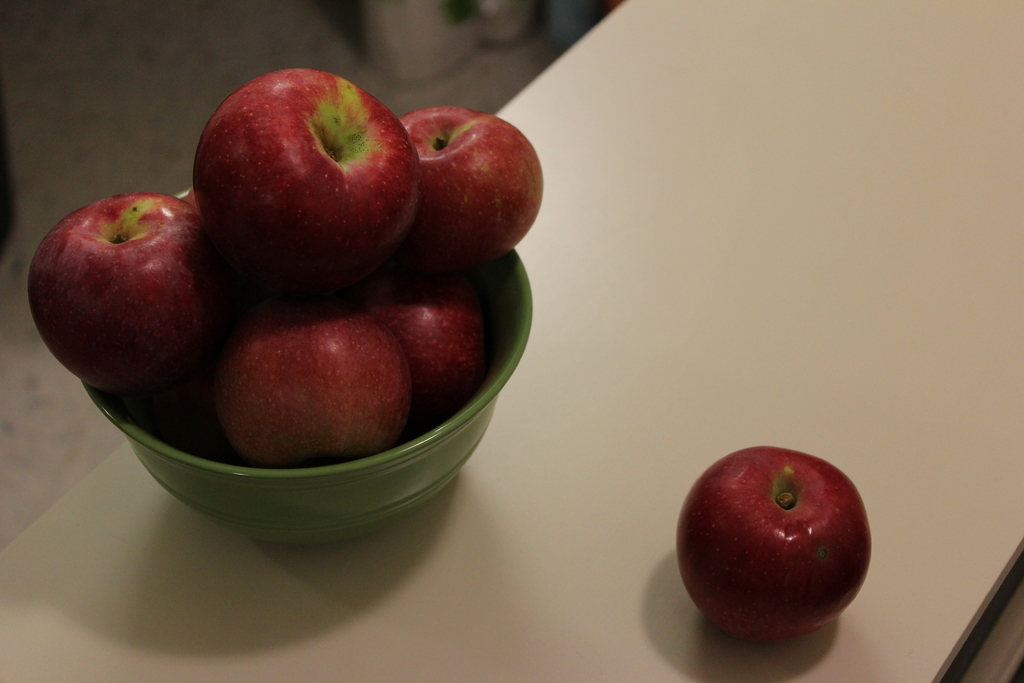Apple: (28, 61, 545, 468), (673, 447, 880, 648)
